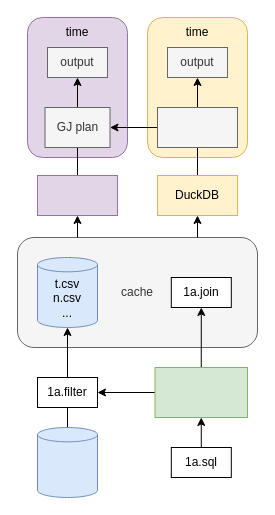
Image size: 275x515. Some labels were removed from this diagram. The centre of each missing label's shape, as x and y in pixels:
"binary join plan" goes at (197,127).
"GJ" goes at (77,195).
"preprocessor" goes at (201,392).
"title.csv name.csv ..." goes at (67,462).
